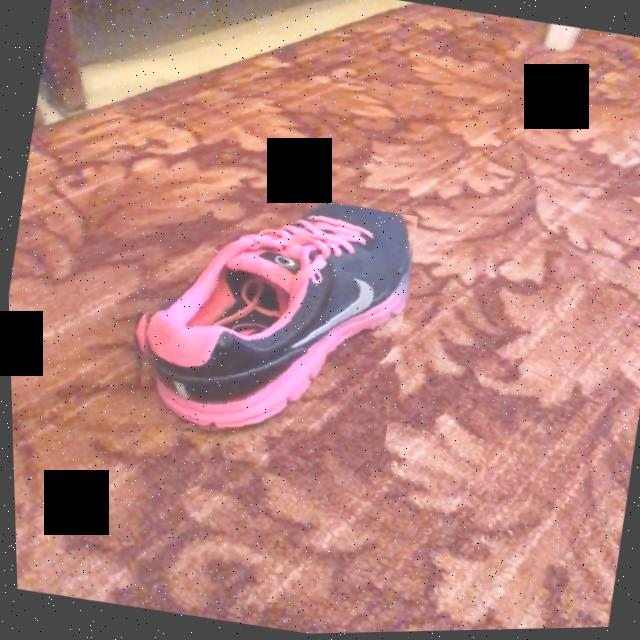shoe: (139, 204, 409, 434)
